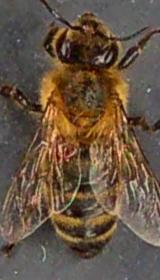varroa_mite: (45, 127, 93, 160)
